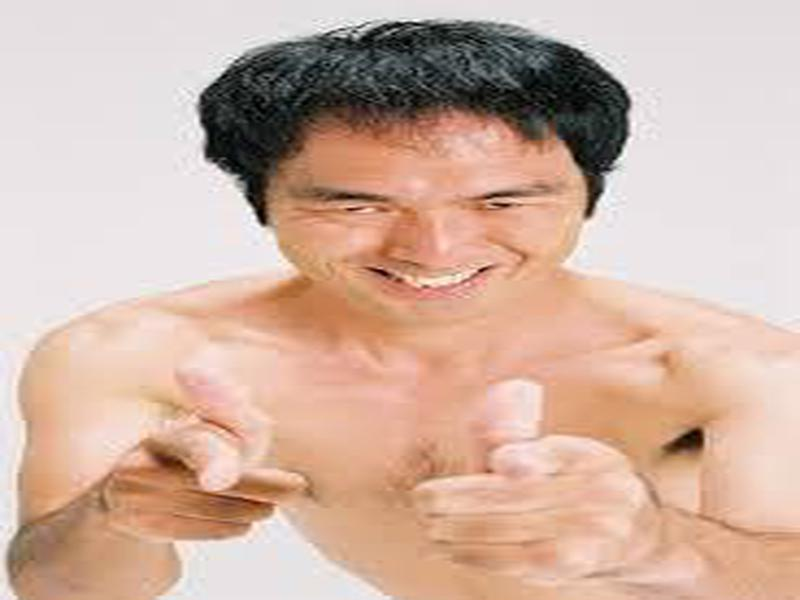without_mask: (272, 106, 587, 333)
